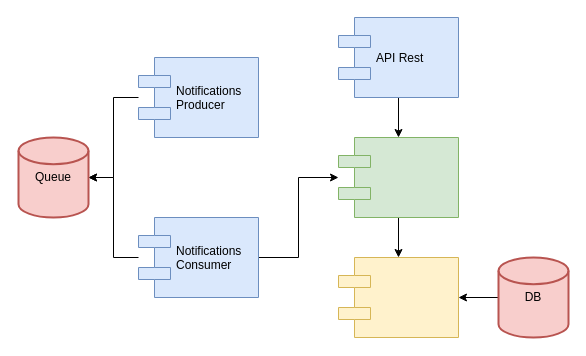
Some shapes in this 586 by 356 pixel diagram are drawn without their labels. The shapes that lost their labels are listed below. From the top down, each one's box as (x1, y1, x2, y2) in pixels, then its label:
(338, 136, 458, 218): Service
(338, 256, 458, 338): Persistence
